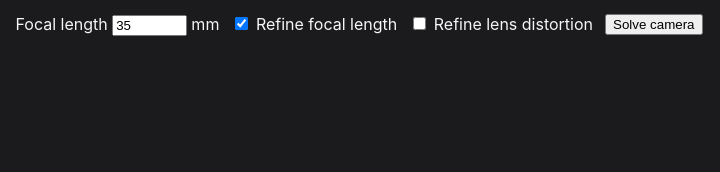
Test: SolvePanel › sends the tracks with the focal guess in pixels
The width and height of the screenshot is (720, 172).
Replace the text in the number field named "Focal length guess" with "18" at (150, 26), box x1=112 y1=15 x2=187 y2=36
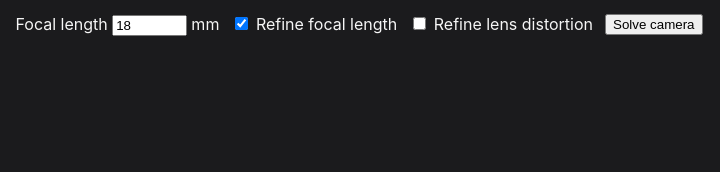
Click the checkbox labelled "Refine focal length" at (242, 24), box x1=235 y1=17 x2=248 y2=30
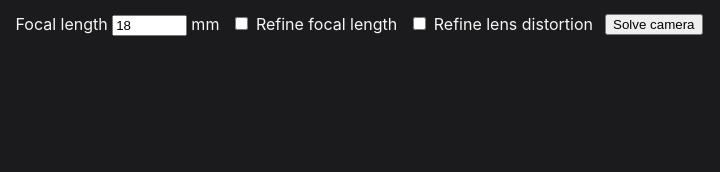
Click the checkbox labelled "Refine lens distortion" at (420, 24), box x1=413 y1=17 x2=426 y2=30
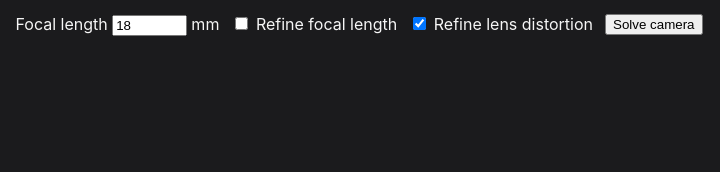
Click the button "Solve camera" at (654, 24), box x1=605 y1=14 x2=702 y2=34
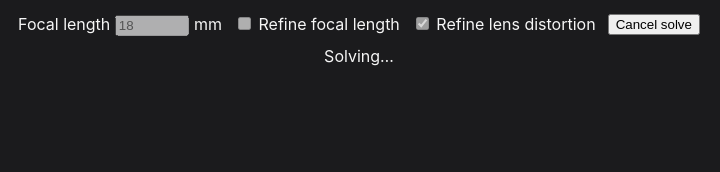
Now the message reads "Solving…", box x1=324 y1=46 x2=394 y2=66
